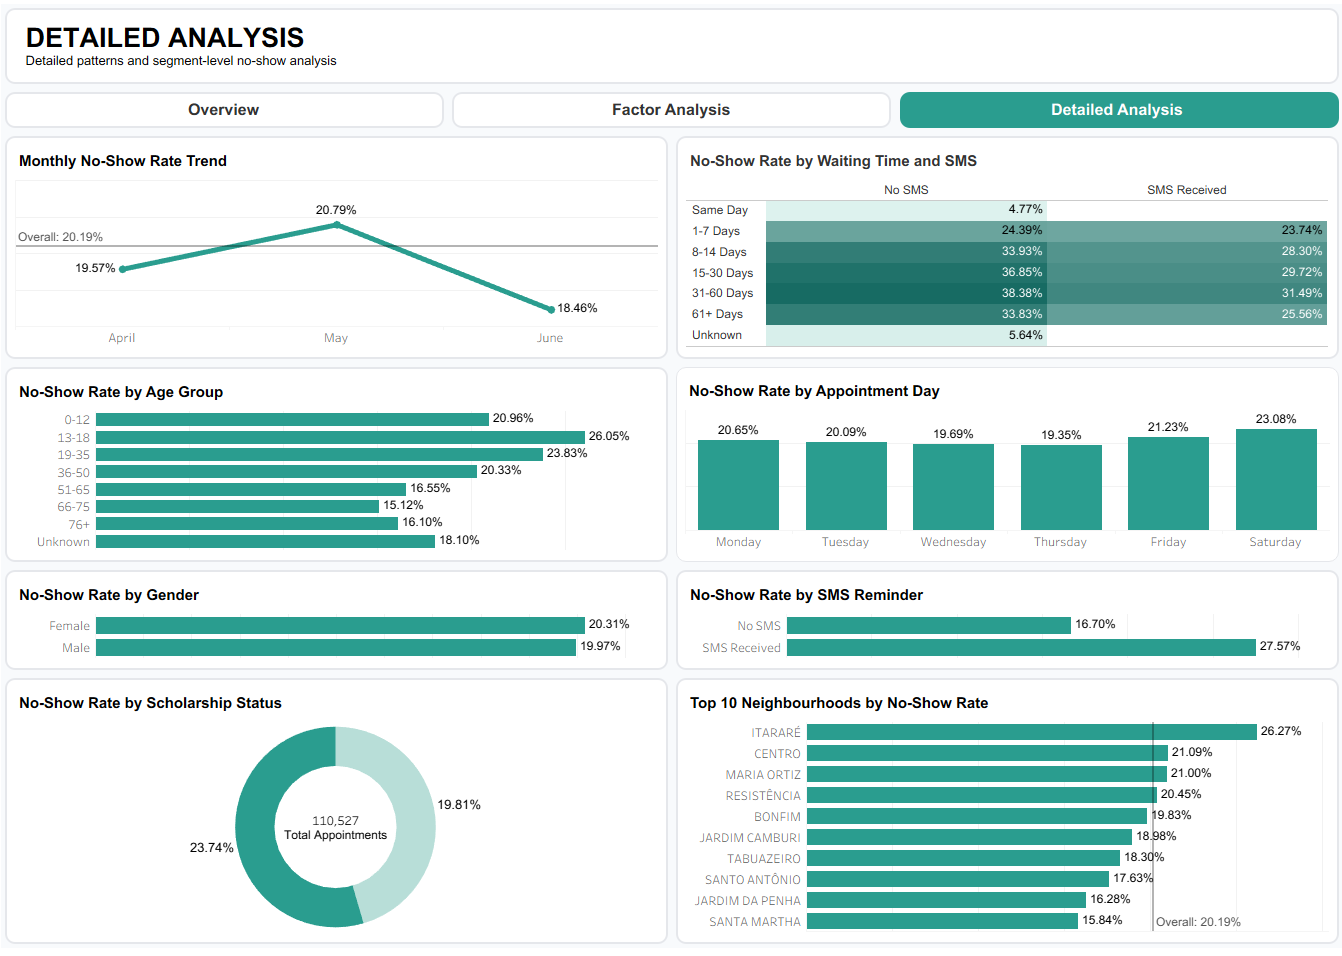

What the dashboard file says about the page in this screenshot:
{"tool":"tableau","page":{"name":"Detailed Analysis","canvas":[1366,968],"ordinal":0},"visuals":[{"type":"text","box":[12,12,1342,84]},{"type":"dashboard-object","box":[12,96,447.2,44]},{"type":"dashboard-object","box":[459.2,96,447.3,44]},{"type":"dashboard-object","box":[906.5,96,447.5,44]},{"type":"worksheet","title":"Chart - Monthly Trend","mark":"Line","rows":["Calculation_0297463918501891"],"cols":["appointment_month_name"],"box":[12,140,671,231]},{"type":"worksheet","title":"Chart - Waiting × SMS","mark":"Square","rows":["waiting_group"],"cols":["sms_status"],"box":[683,140,671,231]},{"type":"worksheet","title":"Chart - Age Detail","mark":"Bar","rows":["age_group"],"cols":["Calculation_0297463918501891"],"box":[12,371,671,203]},{"type":"worksheet","title":"Chart - Weekday Detail","mark":"Bar","rows":["Calculation_0297463918501891"],"cols":["appointment_day_name"],"box":[683,371,671,203]},{"type":"worksheet","title":"Chart - Gender Detail","mark":"Bar","rows":["gender_status"],"cols":["Calculation_0297463918501891"],"box":[12,574,671,108]},{"type":"worksheet","title":"Chart - SMS Effect","mark":"Bar","rows":["sms_status"],"cols":["Calculation_0297463918501891"],"box":[683,574,671,108]},{"type":"worksheet","title":"Chart - Scholarship Detail (Pie)","mark":"Pie","cols":["Calculation_0297463952502788","Calculation_0297463952502788"],"box":[12,682,671,274]},{"type":"worksheet","title":"Chart - Neighbourhood","mark":"Bar","rows":["neighbourhood"],"cols":["Calculation_0297463918501891"],"box":[683,682,671,274]}]}

Visuals, with their boxes in screenshot pixels (x1, y1, x2, y2), scaled from the page's 1366x968 canvas onto the 1342x956 screenshot:
text: (x1=12, y1=12, x2=1330, y2=95)
dashboard-object: (x1=12, y1=95, x2=451, y2=138)
dashboard-object: (x1=451, y1=95, x2=891, y2=138)
dashboard-object: (x1=891, y1=95, x2=1330, y2=138)
"Chart - Monthly Trend" worksheet (Line marks): (x1=12, y1=138, x2=671, y2=366)
"Chart - Waiting × SMS" worksheet (Square marks): (x1=671, y1=138, x2=1330, y2=366)
"Chart - Age Detail" worksheet (Bar marks): (x1=12, y1=366, x2=671, y2=567)
"Chart - Weekday Detail" worksheet (Bar marks): (x1=671, y1=366, x2=1330, y2=567)
"Chart - Gender Detail" worksheet (Bar marks): (x1=12, y1=567, x2=671, y2=674)
"Chart - SMS Effect" worksheet (Bar marks): (x1=671, y1=567, x2=1330, y2=674)
"Chart - Scholarship Detail (Pie)" worksheet (Pie marks): (x1=12, y1=674, x2=671, y2=944)
"Chart - Neighbourhood" worksheet (Bar marks): (x1=671, y1=674, x2=1330, y2=944)
